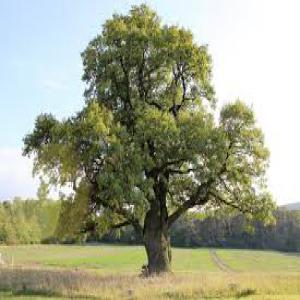Tree: (20, 2, 275, 270)
